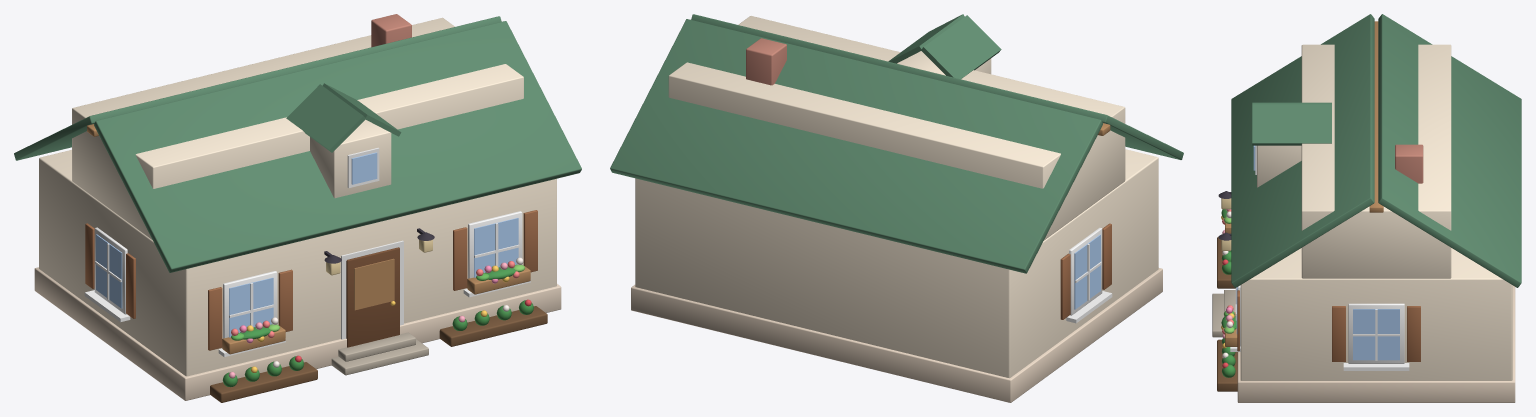
File: cottage_green.glb
The picture shows the model from 3 angles, left to right: view 1: azimuth 30°, elevation 25°; view 2: azimuth 150°, elevation 25°; view 3: azimuth 270°, elevation 25°; orthographic projection. The views are drawn at different scales.
Parts seen in each view (by area): view 1: cottage_green; view 2: cottage_green; view 3: cottage_green.
Part boxes in pixels (left/top/right/bottom): cottage_green: left=14, top=14, right=581, bottom=402; cottage_green: left=610, top=14, right=1183, bottom=402; cottage_green: left=1212, top=14, right=1521, bottom=402.
Bounding box in the file's own units: 9.4 × 5.15 × 6.59.
